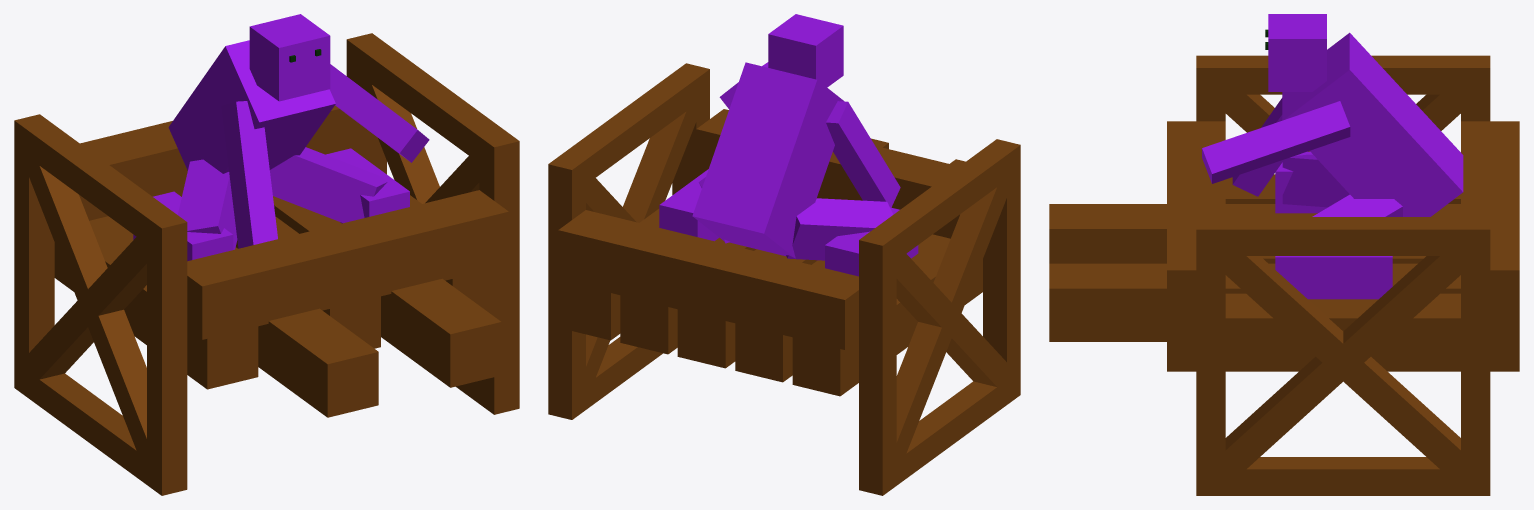
Rendered from BeastTamer.fbx.
The picture shows the model from 3 angles, left to right: view 1: azimuth 30°, elevation 25°; view 2: azimuth 150°, elevation 25°; view 3: azimuth 270°, elevation 25°; orthographic projection. The views are drawn at different scales.
Visible parts, largest first — view 1: Cube.029, Cube.012; view 2: Cube.029, Cube.012; view 3: Cube.029, Cube.012.
Part boxes in pixels (x1=…): Cube.029: x1=14, y1=33, x2=519, y2=495; Cube.012: x1=133, y1=14, x2=429, y2=261; Cube.029: x1=548, y1=63, x2=1020, y2=495; Cube.012: x1=659, y1=14, x2=918, y2=276; Cube.029: x1=1049, y1=55, x2=1519, y2=495; Cube.012: x1=1202, y1=14, x2=1463, y2=299.
Size of the model in its own units: 140 by 144 by 160.
